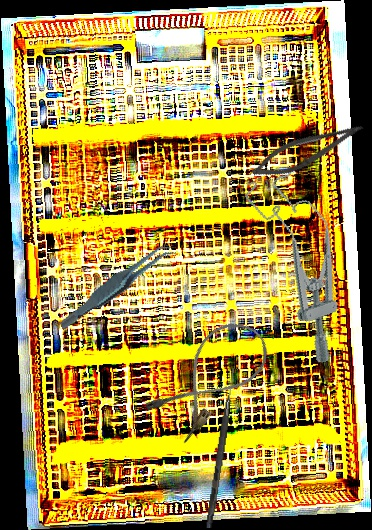Cannula: (140, 309, 279, 447)
Hook Surgical: (205, 367, 237, 529)
Micro Scissor: (247, 109, 368, 189)
Speculum: (240, 160, 370, 370)
Tissue Forceps: (47, 241, 187, 331)
